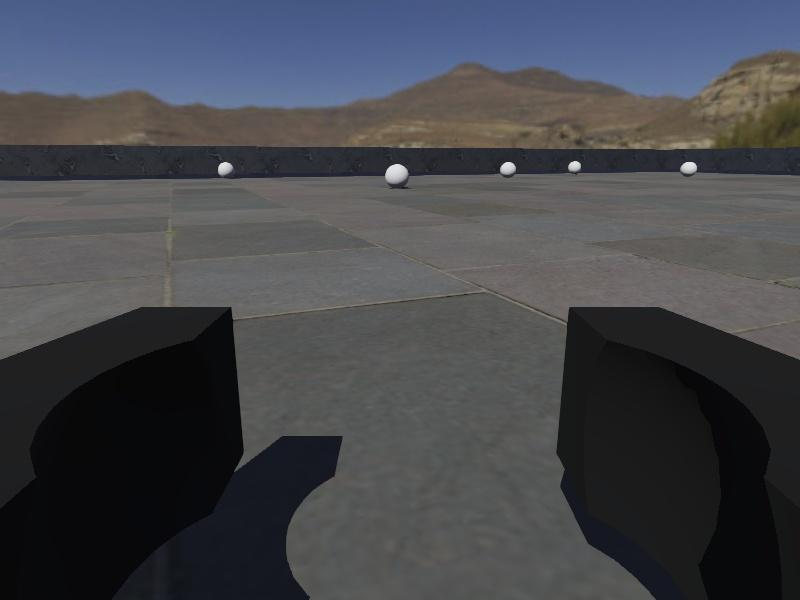white ball: (385, 163, 411, 188), (216, 160, 234, 178), (499, 161, 518, 177), (680, 160, 698, 176), (567, 160, 583, 175)
